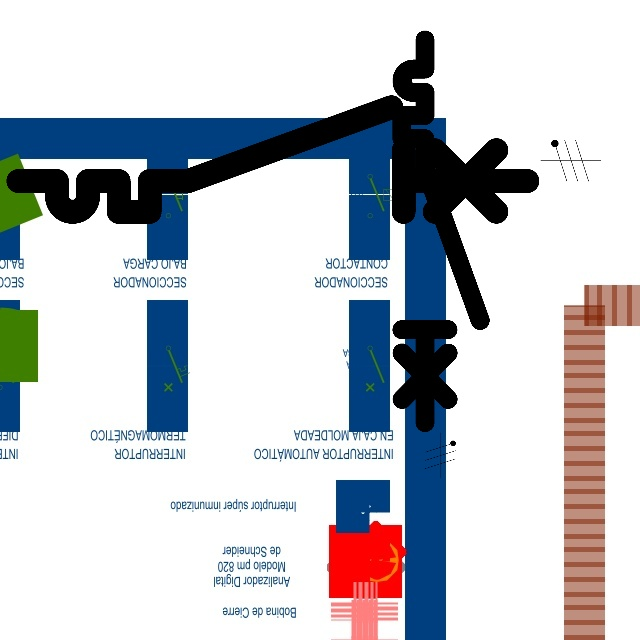interruptor_termomagnetico: (5, 94, 541, 225), (392, 30, 490, 432)
